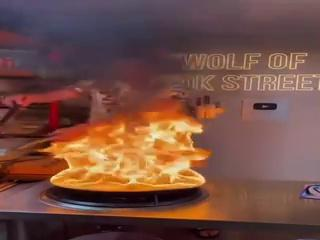Fire: (32, 62, 212, 194)
